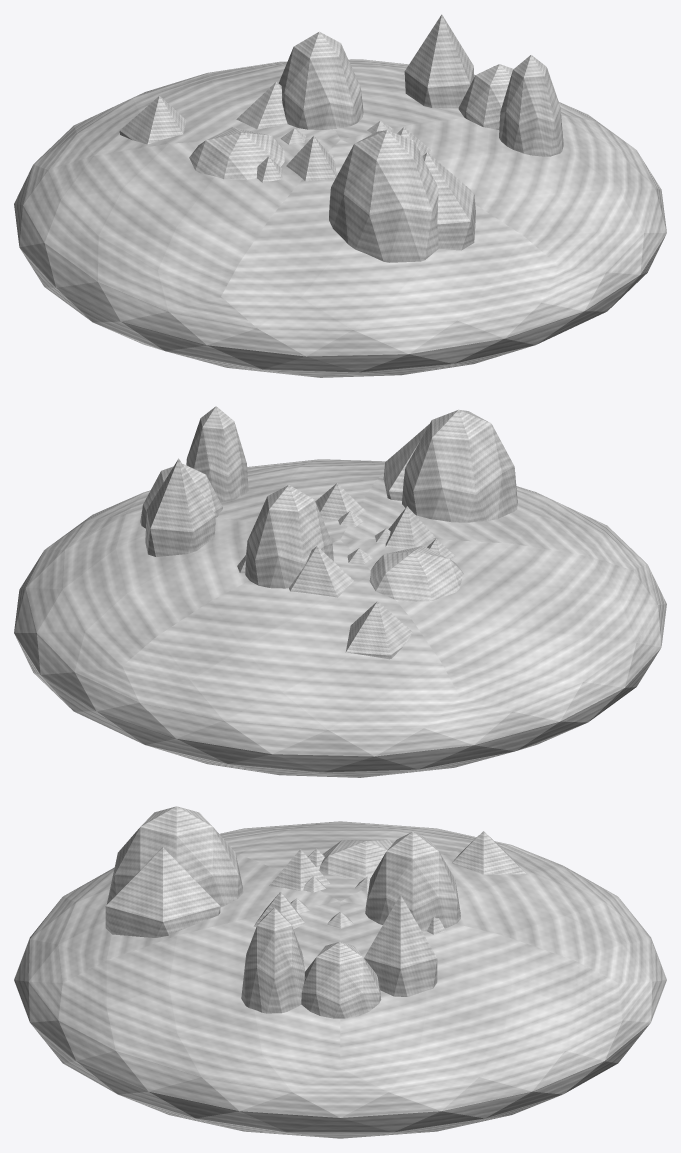
The model's file is iron_ore_node_variant_c.glb.
3 views of the same model, one above another, from view 1: azimuth 30°, elevation 25°; view 2: azimuth 150°, elevation 25°; view 3: azimuth 270°, elevation 25° (orthographic).
Visible parts, largest first — view 1: Resource node bedrock.002, Exposed ore formation.030, Exposed ore formation.024, Exposed ore formation.033, Exposed ore formation.022, Exposed ore formation.027, Exposed ore formation.031, Exposed ore formation.021, Exposed ore formation.026, Exposed ore formation.029, Exposed ore formation.025; view 2: Resource node bedrock.002, Exposed ore formation.030, Exposed ore formation.024, Exposed ore formation.022, Exposed ore formation.027, Exposed ore formation.033, Exposed ore formation.026, Exposed ore formation.025, Exposed ore formation.029, Exposed ore formation.031, Exposed ore formation.021, Exposed ore formation.032; view 3: Resource node bedrock.002, Exposed ore formation.030, Exposed ore formation.031, Exposed ore formation.024, Exposed ore formation.033, Exposed ore formation.021, Exposed ore formation.022, Exposed ore formation.027, Exposed ore formation.026, Exposed ore formation.029, Exposed ore formation.032.
Boxes of the visible parts, bbox=[...] form: Resource node bedrock.002: bbox=[14, 59, 666, 377]; Exposed ore formation.030: bbox=[329, 130, 438, 262]; Exposed ore formation.024: bbox=[278, 31, 363, 129]; Exposed ore formation.033: bbox=[499, 55, 563, 156]; Exposed ore formation.022: bbox=[404, 14, 474, 108]; Exposed ore formation.027: bbox=[189, 127, 284, 179]; Exposed ore formation.031: bbox=[422, 152, 475, 250]; Exposed ore formation.021: bbox=[458, 64, 513, 129]; Exposed ore formation.026: bbox=[119, 96, 186, 144]; Exposed ore formation.029: bbox=[286, 136, 336, 181]; Exposed ore formation.025: bbox=[236, 82, 287, 129]; Resource node bedrock.002: bbox=[14, 459, 666, 777]; Exposed ore formation.030: bbox=[402, 409, 517, 522]; Exposed ore formation.024: bbox=[245, 485, 333, 588]; Exposed ore formation.022: bbox=[145, 458, 215, 556]; Exposed ore formation.027: bbox=[369, 545, 463, 601]; Exposed ore formation.033: bbox=[186, 406, 248, 502]; Exposed ore formation.026: bbox=[345, 601, 412, 659]; Exposed ore formation.025: bbox=[289, 546, 353, 597]; Exposed ore formation.029: bbox=[385, 506, 435, 549]; Exposed ore formation.031: bbox=[383, 424, 429, 500]; Exposed ore formation.021: bbox=[140, 464, 222, 528]; Exposed ore formation.032: bbox=[315, 483, 366, 520]; Resource node bedrock.002: bbox=[14, 821, 666, 1138]; Exposed ore formation.030: bbox=[106, 806, 243, 907]; Exposed ore formation.031: bbox=[105, 847, 220, 937]; Exposed ore formation.024: bbox=[365, 831, 460, 931]; Exposed ore formation.033: bbox=[241, 907, 305, 1013]; Exposed ore formation.021: bbox=[301, 941, 381, 1018]; Exposed ore formation.022: bbox=[364, 895, 437, 996]; Exposed ore formation.027: bbox=[319, 839, 393, 879]; Exposed ore formation.026: bbox=[452, 831, 525, 874]; Exposed ore formation.029: bbox=[269, 849, 329, 890]; Exposed ore formation.032: bbox=[253, 891, 305, 929].
Size of what is drawn, in the model's own units: 6.4 by 2.54 by 6.4.
2 materials, 2 textured.
